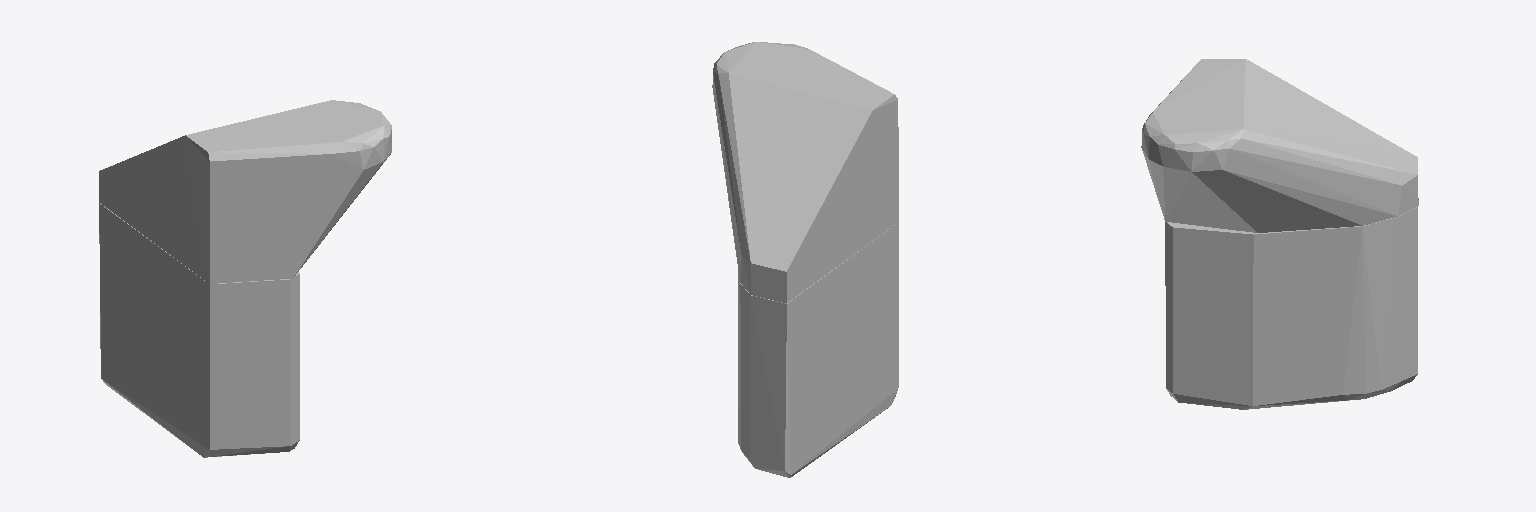
Rendered from shoulder_collision.obj.
3 views of the same model, side by side, from view 1: azimuth 30°, elevation 25°; view 2: azimuth 150°, elevation 25°; view 3: azimuth 270°, elevation 25° (orthographic).
Size of the model in its own units: 0.1303 by 0.218 by 0.1764.